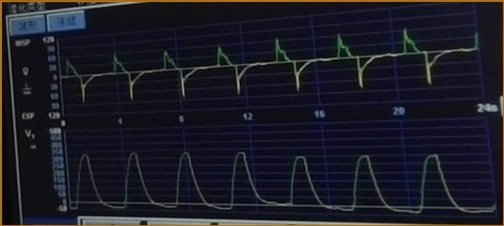Accumulation Flow: (63, 29, 479, 103)
Volume: (72, 150, 489, 216)
